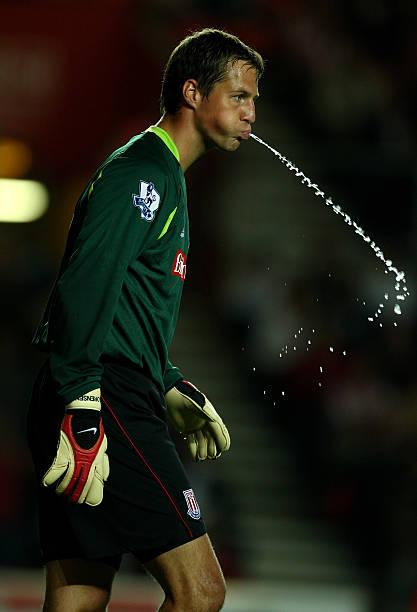Spitting: (146, 0, 354, 199)
